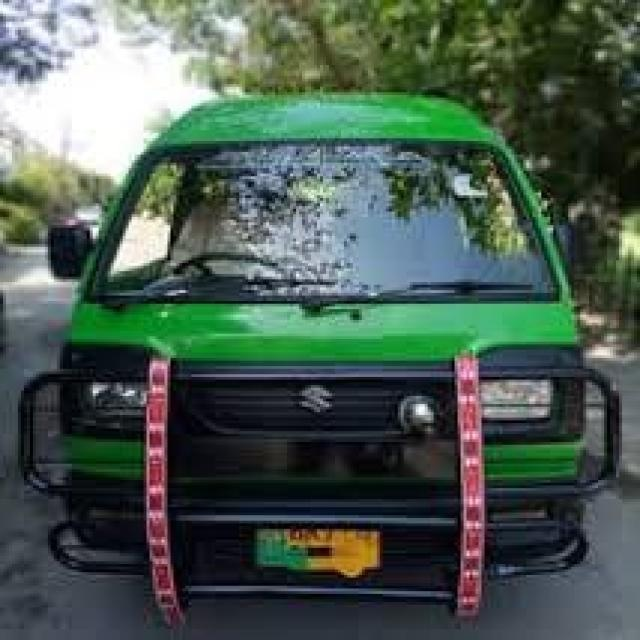Van: (21, 84, 628, 621)
